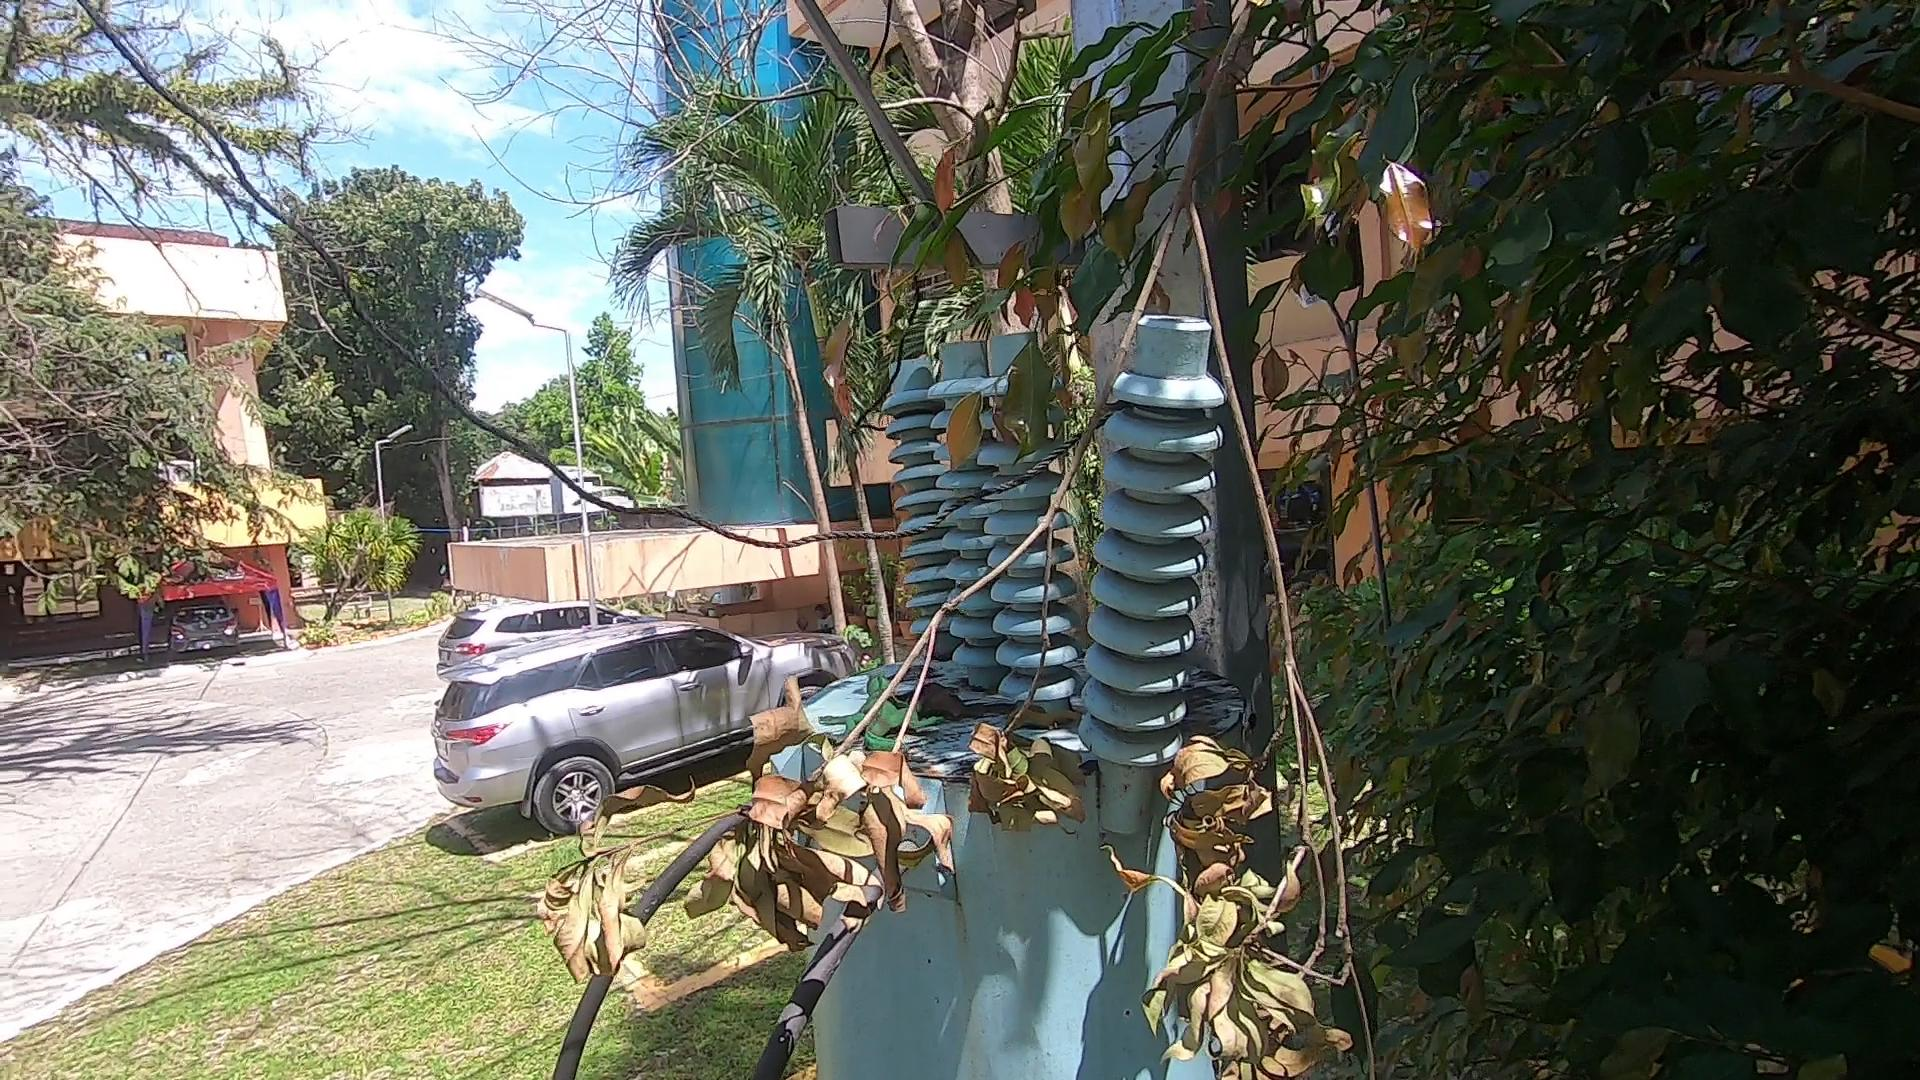branch with leaves: (444, 8, 1469, 1080)
leaf: (898, 682, 1007, 715)
